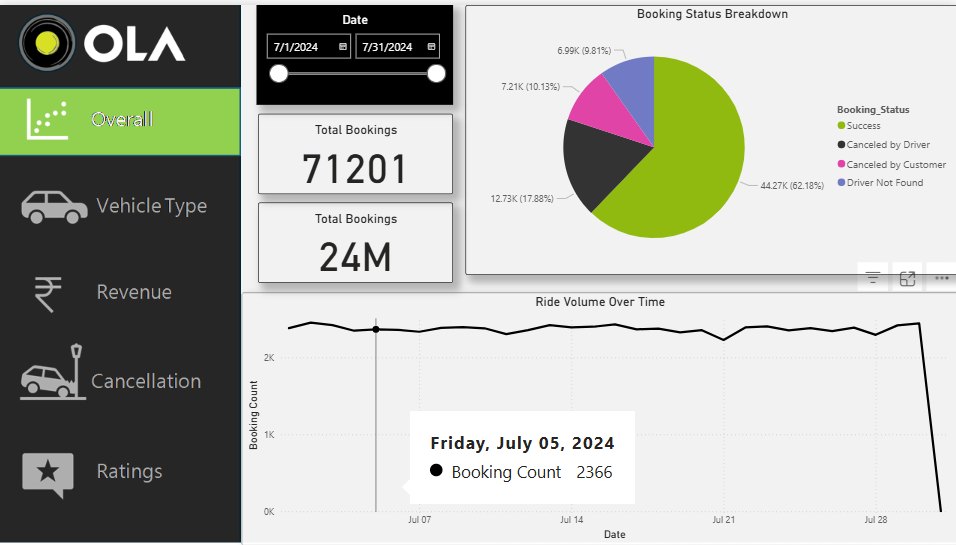

The dashboard page shown, as its layout file describes it:
{"tool":"powerbi","page":{"name":"Overall","canvas":[1280,720],"ordinal":0},"visuals":[{"type":"actionButton","box":[0,218,326,90],"z":0},{"type":"actionButton","box":[0,338,326,90],"z":1000},{"type":"actionButton","box":[0,336,326,90],"z":2000},{"type":"actionButton","box":[0,448,326,90],"z":3000},{"type":"actionButton","box":[0,580,326,90],"z":4000},{"type":"lineChart","title":"Ride Volume Over Time","fields":{"Y":["CountNonNull(July.Booking_ID)"],"Category":["July.Date"]},"box":[325,382.5,955,337.5],"z":5000},{"type":"pieChart","title":"Booking Status Breakdown","fields":{"Category":["July.Booking_Status"],"Y":["CountNonNull(July.Booking_Status)"]},"box":[622.5,0,657.5,360],"z":6000},{"type":"slicer","title":"Date","fields":{"Values":["July.Date"]},"box":[345,0,261.2,132.5],"z":7000},{"type":"card","title":"Total Bookings","fields":{"Values":["CountNonNull(July.Booking_ID)"]},"box":[346.2,145,260,107.5],"z":8000},{"type":"card","title":"Total Bookings","fields":{"Values":["Sum(July.Booking_Value)"]},"box":[346.2,262.5,260,107.5],"z":9000}]}

Visuals, with their boxes in screenshot pixels (x1, y1, x2, y2), scaled from the page's 1280x720 canvas onto the 956x545 screenshot:
actionButton: l=0, t=165, r=243, b=233
actionButton: l=0, t=256, r=243, b=324
actionButton: l=0, t=254, r=243, b=322
actionButton: l=0, t=339, r=243, b=407
actionButton: l=0, t=439, r=243, b=507
"Ride Volume Over Time" lineChart: l=243, t=290, r=955, b=544
"Booking Status Breakdown" pieChart: l=465, t=0, r=955, b=272
"Date" slicer: l=258, t=0, r=453, b=100
"Total Bookings" card: l=259, t=110, r=453, b=191
"Total Bookings" card: l=259, t=199, r=453, b=280
